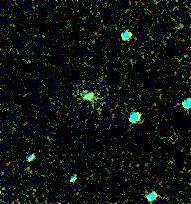star: (155, 145, 185, 175)
